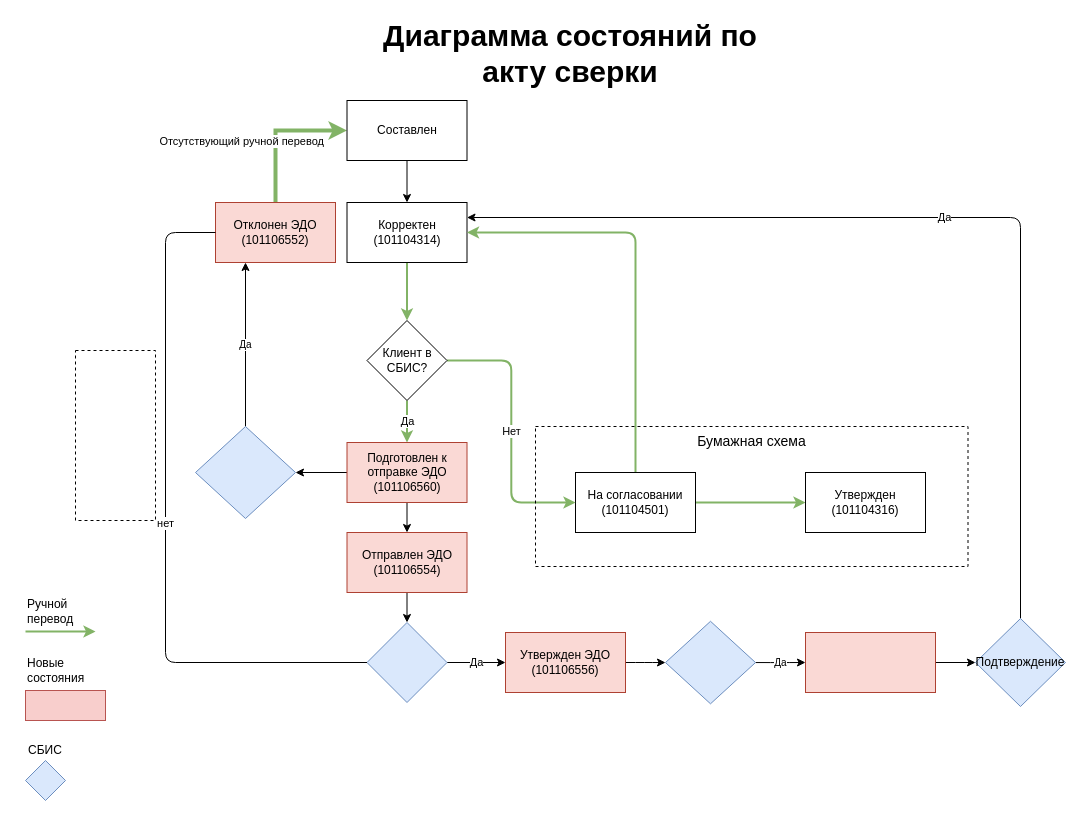
Image size: 1083x818. Some labels were removed from this diagram. The box of each missing label's shape, as (x1, y1, x2, y2) in pixels:
Запись комментария о причинах отказа: (74, 350, 156, 520)
Запрос отмены утверждения: (664, 620, 756, 704)
Запрос отмены ЭДО (101106558): (804, 632, 936, 692)
Мы отозвали или ошибка отправки: (194, 426, 296, 518)
Утвержден?: (366, 622, 447, 702)
